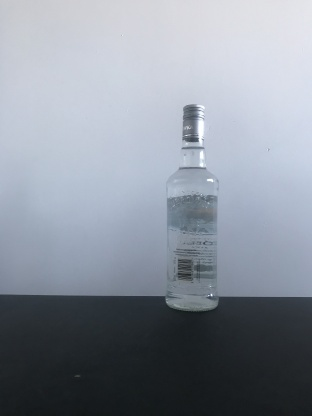nakretka: (180, 102, 206, 141)
